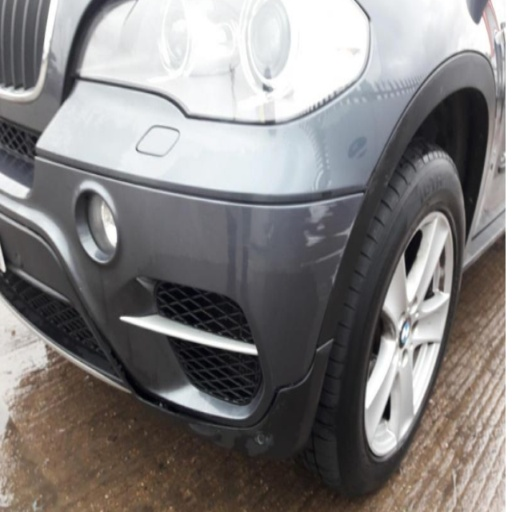scratch: (302, 245, 346, 267), (310, 201, 338, 223), (334, 216, 356, 239), (306, 231, 325, 245), (330, 266, 339, 286), (318, 225, 325, 230)
